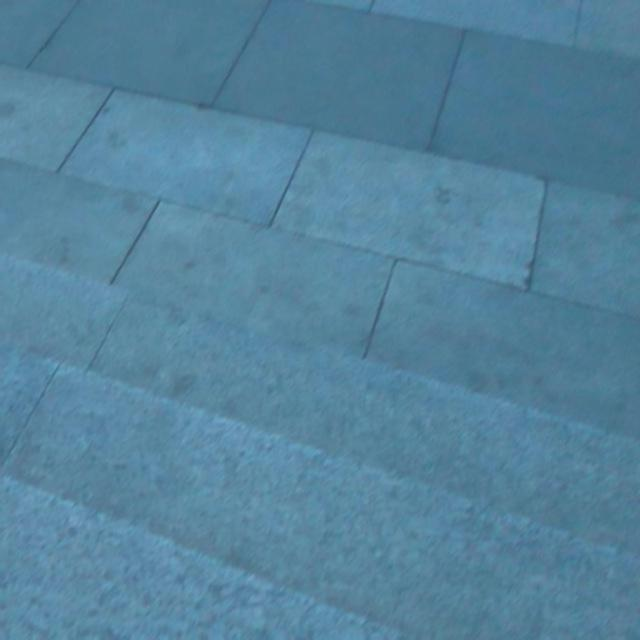stair: (0, 300, 619, 640)
